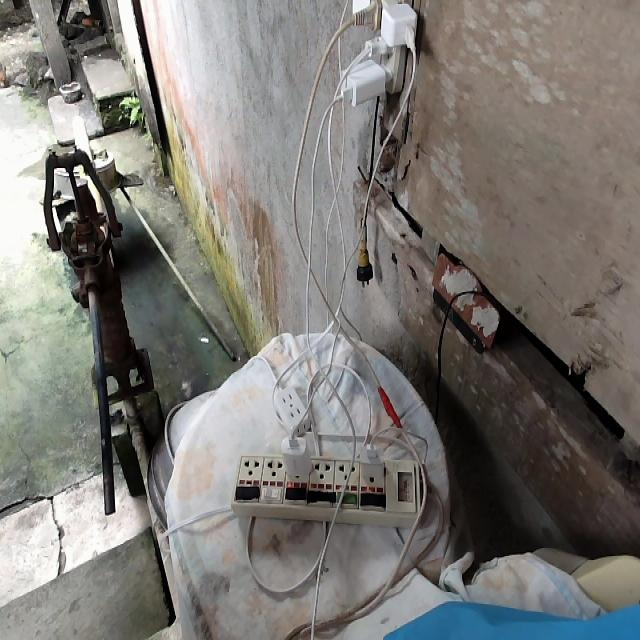-: (323, 0, 423, 107)
